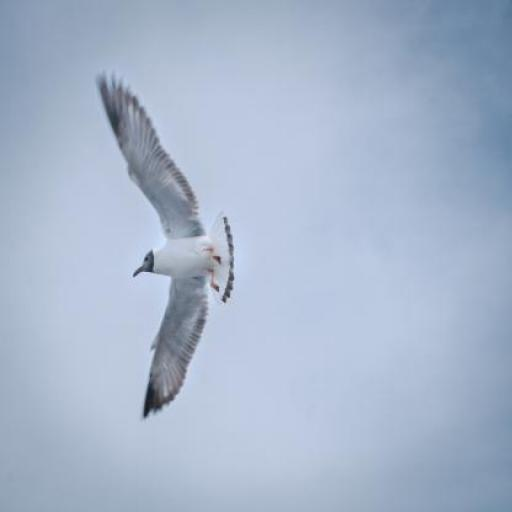bird: (97, 70, 236, 418)
